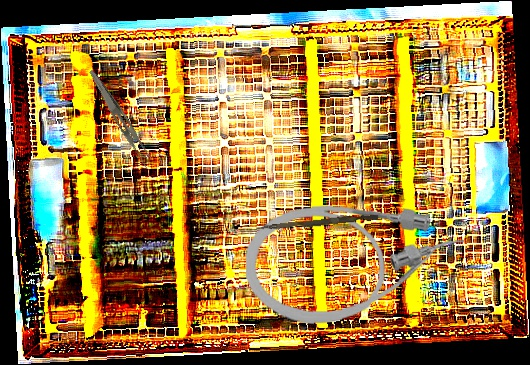Cannula: (243, 199, 468, 327)
Dressing Forceps: (79, 69, 159, 170)
Pusher: (255, 211, 379, 235)
